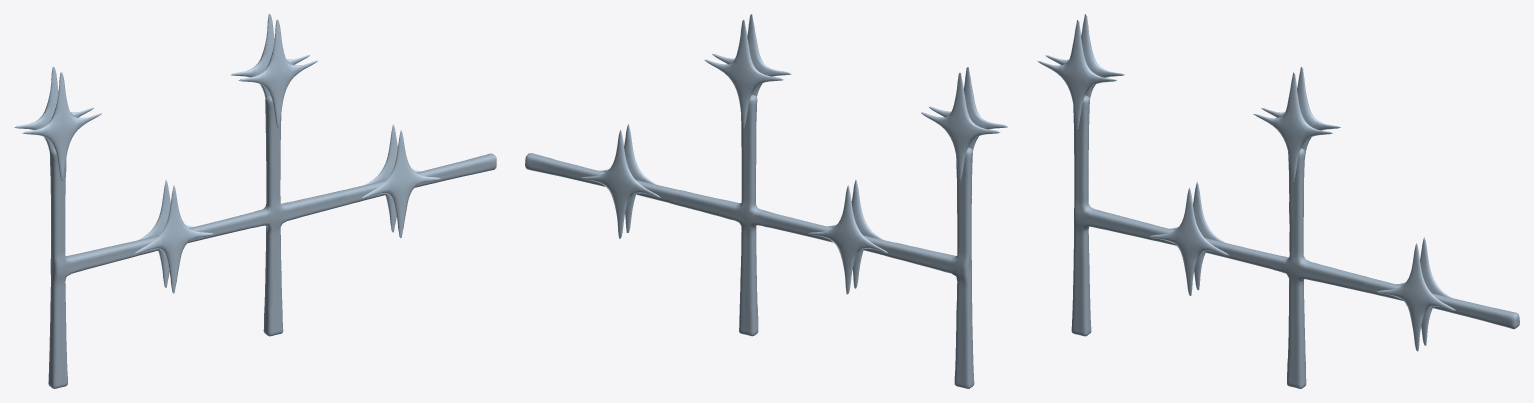
File: SM_cercaA.fbx
3 views of the same model, side by side, from view 1: azimuth 30°, elevation 25°; view 2: azimuth 150°, elevation 25°; view 3: azimuth 330°, elevation 25° (orthographic).
Parts seen in each view (by area): view 1: PolySphere15.003; view 2: PolySphere15.003; view 3: PolySphere15.003.
Boxes of the visible parts, x1,y1,x2,y2 form: PolySphere15.003: (14, 14, 496, 388); PolySphere15.003: (525, 14, 1008, 388); PolySphere15.003: (1037, 14, 1519, 388).
Bounding box in the file's own units: 2.19 × 1.39 × 0.0912.
